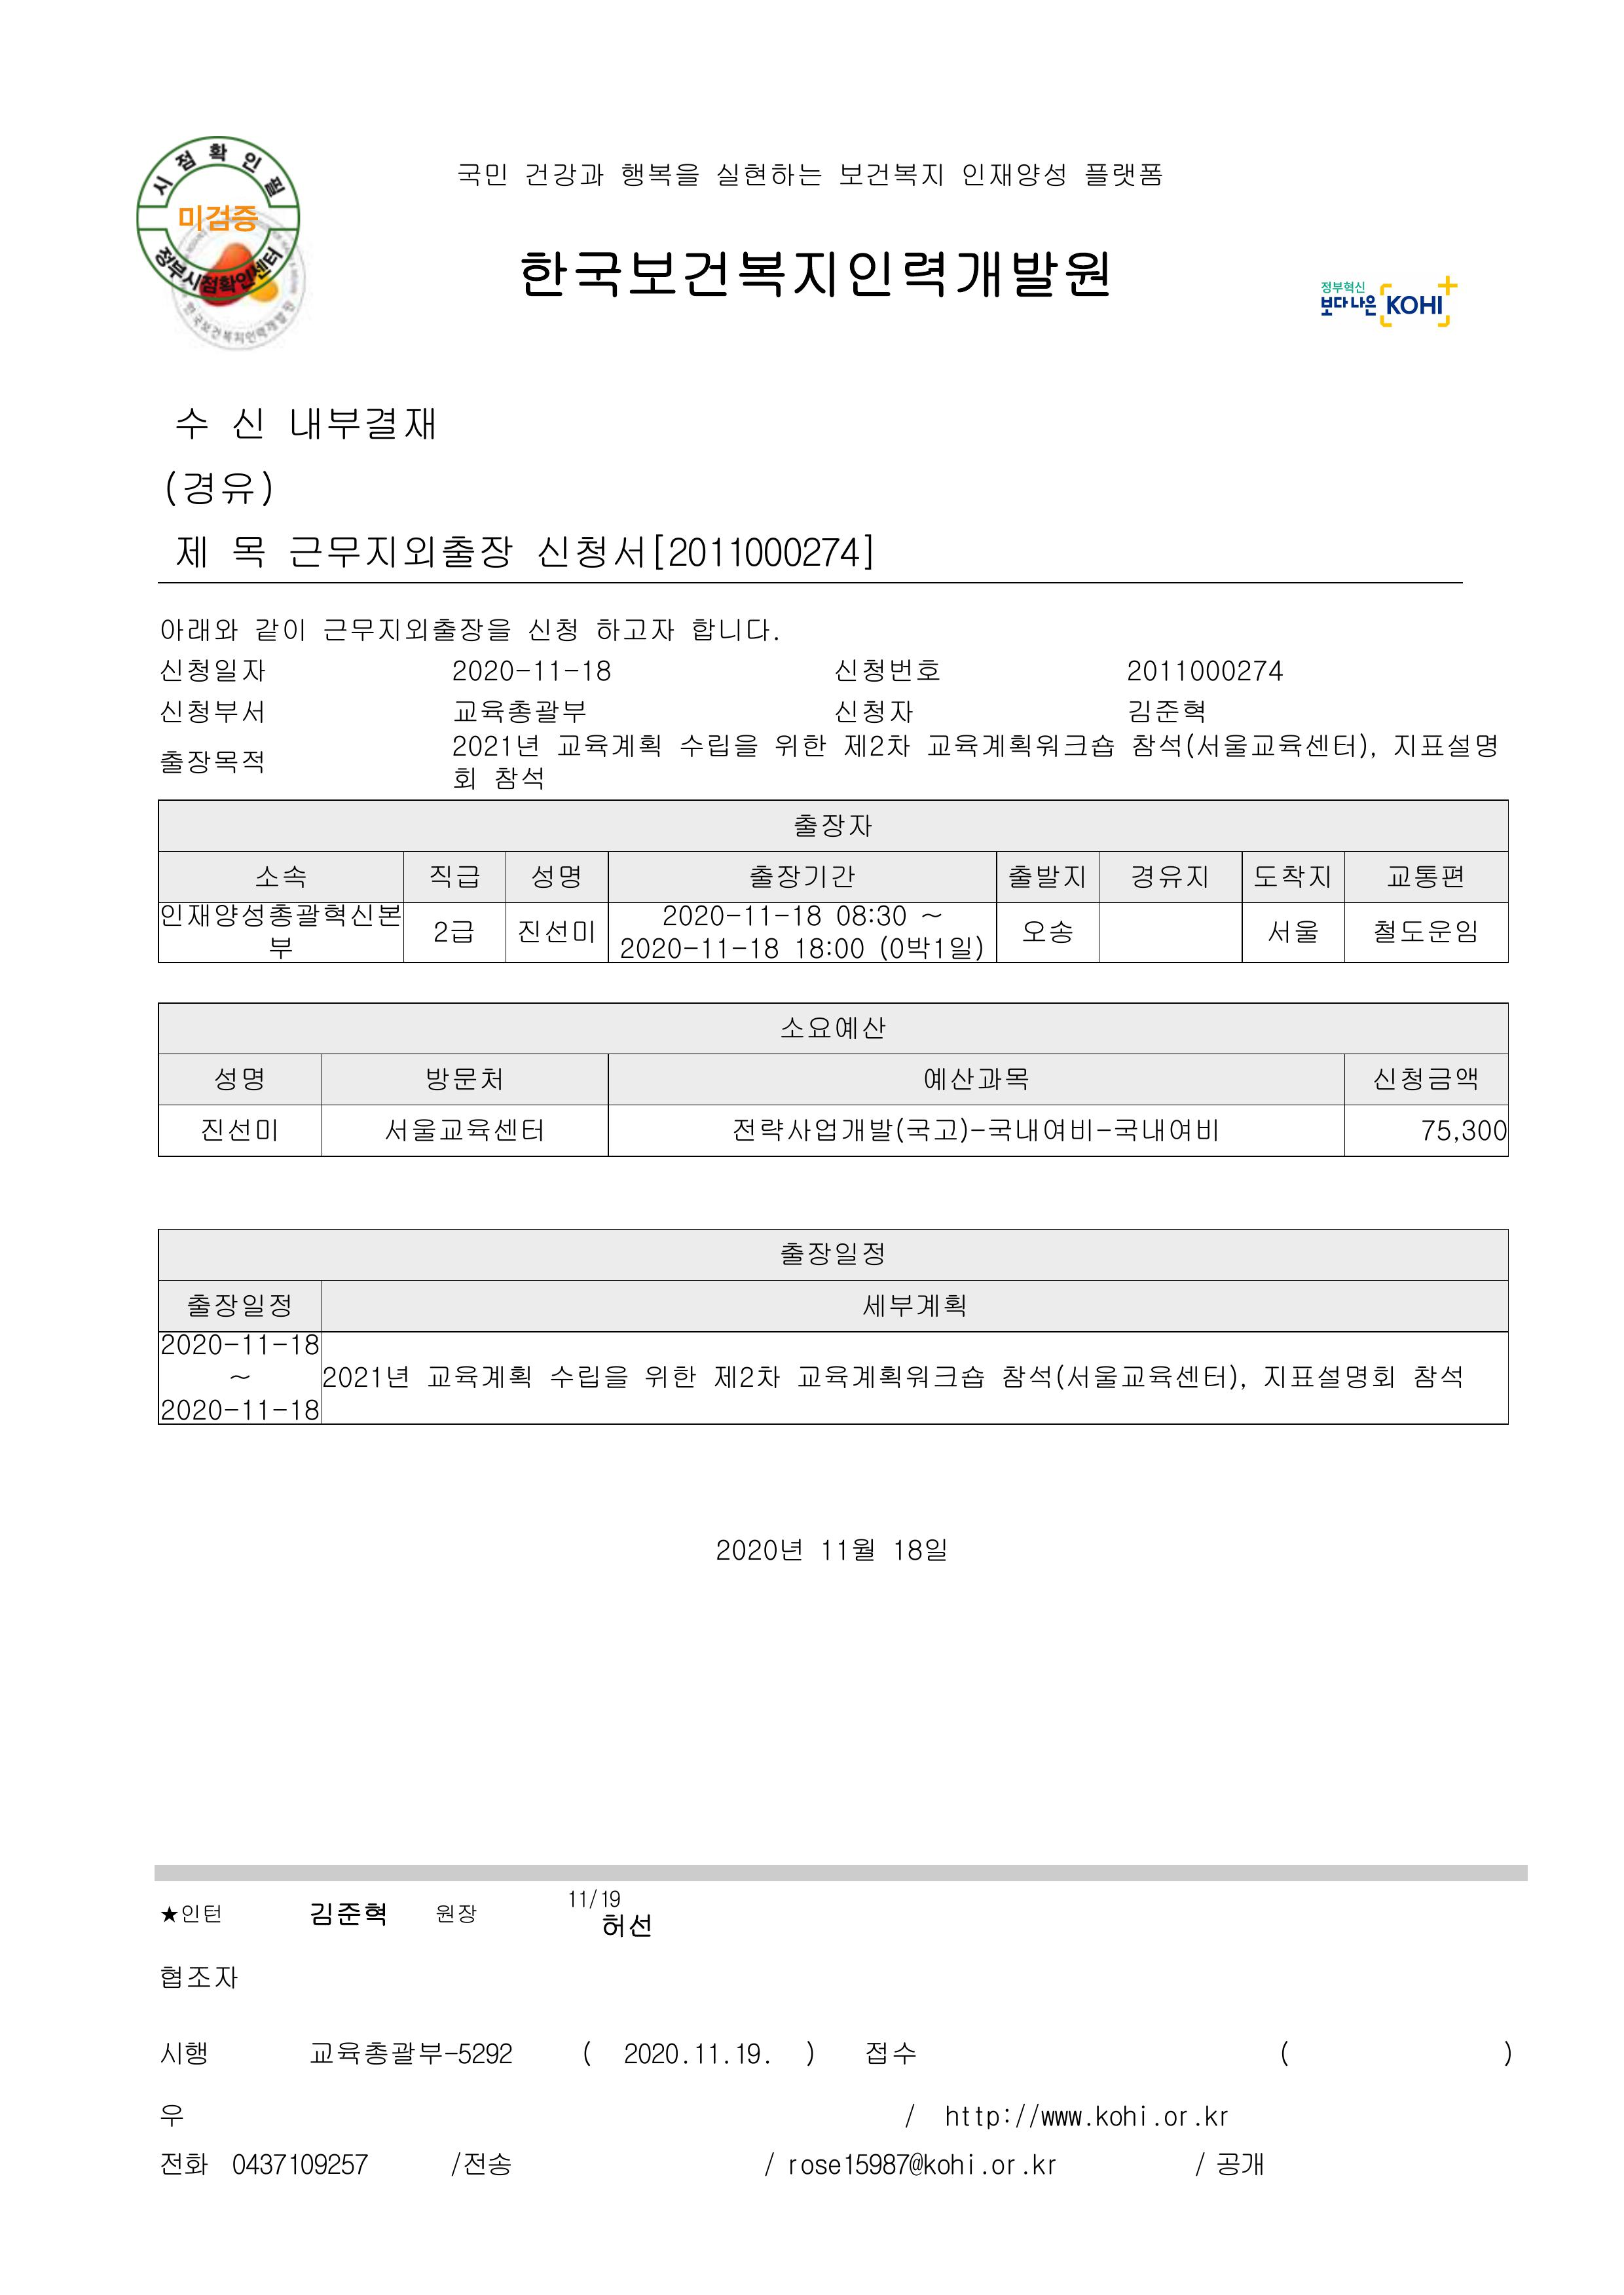t: (517, 244, 1111, 304), (731, 1116, 1223, 1147), (286, 531, 517, 576), (1130, 728, 1380, 761), (534, 531, 728, 573), (997, 1358, 1248, 1390), (186, 900, 401, 931), (286, 401, 438, 445), (308, 2037, 517, 2068), (924, 728, 1116, 761), (322, 613, 513, 645), (796, 1358, 986, 1390), (724, 531, 875, 569), (448, 652, 617, 685), (162, 466, 279, 513), (383, 1116, 545, 1144), (838, 2147, 979, 2179), (452, 696, 589, 728), (1258, 1358, 1396, 1390), (624, 935, 786, 961), (714, 156, 824, 190), (835, 156, 946, 190), (875, 931, 986, 965), (156, 745, 265, 778), (425, 1362, 534, 1395), (678, 903, 824, 928), (831, 652, 939, 685), (555, 728, 663, 761), (779, 1010, 886, 1044), (745, 861, 856, 893), (1369, 914, 1480, 945), (1369, 1061, 1480, 1093), (156, 696, 265, 728), (165, 1399, 304, 1423), (921, 1061, 1028, 1093), (779, 1237, 886, 1269), (186, 1288, 294, 1320), (861, 1288, 968, 1320), (1172, 655, 1283, 685), (448, 728, 541, 761), (176, 200, 258, 237), (520, 156, 606, 190), (982, 156, 1069, 190), (591, 613, 678, 645), (617, 156, 700, 190), (1079, 156, 1162, 190), (678, 728, 761, 761), (1387, 728, 1469, 761), (1248, 856, 1330, 889), (789, 810, 875, 842), (689, 613, 773, 645), (165, 659, 265, 685), (789, 931, 868, 965), (308, 1896, 387, 1929), (831, 696, 914, 728), (1125, 696, 1207, 728), (1004, 861, 1086, 893), (424, 1061, 506, 1093), (156, 1961, 239, 1993), (286, 2147, 369, 2179), (714, 1534, 803, 1562), (1383, 861, 1462, 893), (548, 1358, 627, 1390), (1130, 861, 1207, 893), (1420, 1118, 1510, 1144), (513, 917, 596, 945), (710, 1358, 780, 1390), (838, 731, 910, 761), (620, 2037, 685, 2068), (448, 2147, 513, 2179), (889, 1534, 951, 1567), (817, 1534, 875, 1567), (162, 1334, 239, 1358), (772, 728, 828, 761), (835, 903, 910, 928), (691, 2044, 766, 2068), (156, 613, 214, 645), (642, 1358, 700, 1390), (228, 2147, 286, 2179), (1380, 290, 1445, 318), (251, 613, 308, 645), (524, 613, 580, 645), (427, 861, 483, 893), (527, 861, 584, 893), (861, 2037, 917, 2068), (1018, 914, 1072, 945), (1265, 914, 1320, 945), (156, 2037, 211, 2068), (946, 2105, 1014, 2130), (1410, 1358, 1462, 1390), (1213, 2147, 1265, 2179), (322, 1365, 387, 1390), (227, 1116, 283, 1144), (214, 1065, 265, 1093), (1320, 293, 1378, 318), (176, 404, 214, 441), (227, 404, 265, 441), (1028, 2105, 1086, 2130), (1093, 2105, 1151, 2130), (228, 534, 269, 569), (156, 2147, 204, 2177), (172, 534, 211, 569), (494, 766, 545, 793), (258, 863, 308, 889), (789, 2154, 842, 2179), (199, 276, 255, 299), (431, 917, 476, 945), (239, 1334, 290, 1358), (1125, 659, 1172, 685), (459, 165, 508, 190), (162, 1905, 221, 1924), (211, 613, 239, 645), (434, 1905, 480, 1924), (383, 1362, 411, 1390), (624, 1912, 652, 1940), (290, 1334, 322, 1358), (566, 1889, 599, 1912), (1028, 2154, 1058, 2179), (1473, 735, 1499, 761), (990, 2154, 1018, 2179), (1200, 2109, 1230, 2130), (961, 165, 986, 190), (603, 1915, 627, 1940), (1162, 2109, 1190, 2130), (599, 1889, 624, 1912), (162, 2105, 183, 2126), (304, 1399, 318, 1420)
